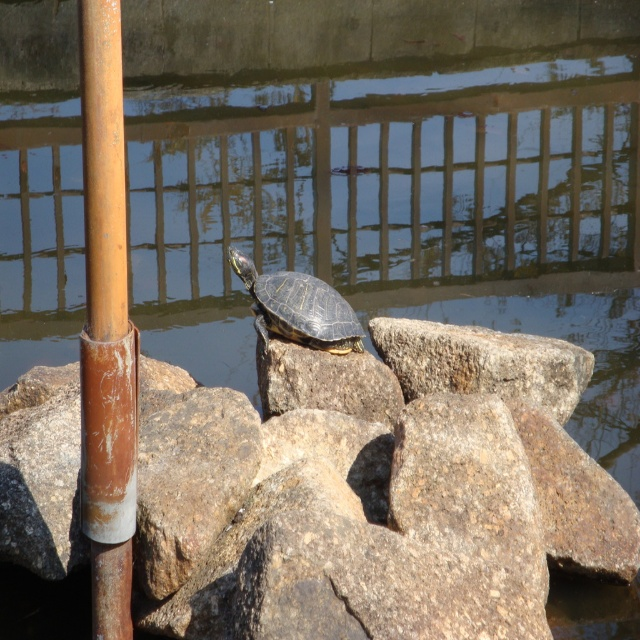Sea turtle: (223, 245, 366, 355)
